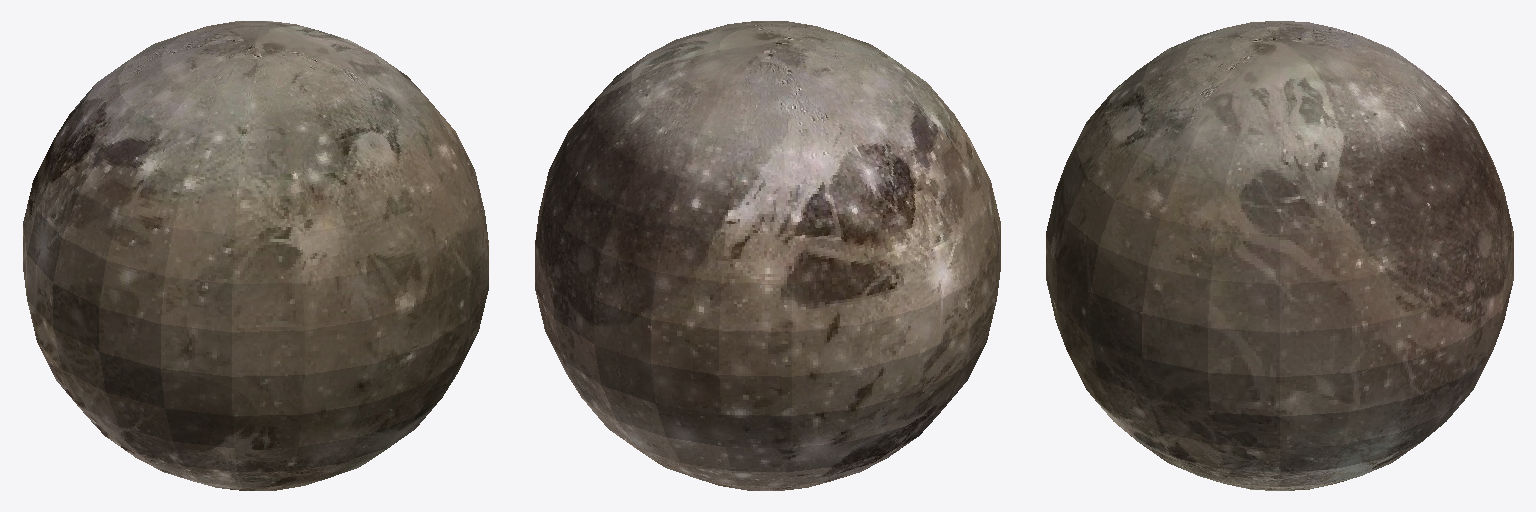
The picture shows the model from 3 angles: view 1: azimuth 30°, elevation 25°; view 2: azimuth 150°, elevation 25°; view 3: azimuth 270°, elevation 25°; orthographic projection.
Size of the model in its own units: 1.99 by 2 by 1.99.
1 materials, 1 textured.